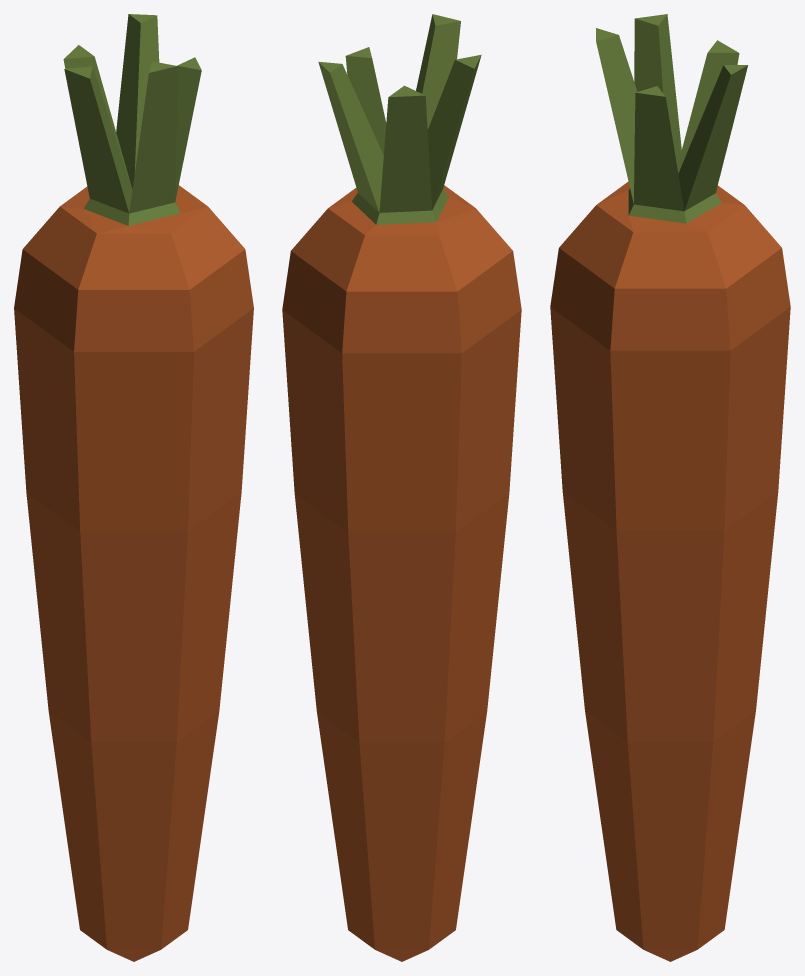
File: SM_Envr_Nature_Farm_Vegetable_Carrot.fbx
The picture shows the model from 3 angles, left to right: view 1: azimuth 30°, elevation 25°; view 2: azimuth 150°, elevation 25°; view 3: azimuth 270°, elevation 25°; orthographic projection.
Parts seen in each view (by area): view 1: SM_Envr_Nature_Farm_Vegetable_Carrot; view 2: SM_Envr_Nature_Farm_Vegetable_Carrot; view 3: SM_Envr_Nature_Farm_Vegetable_Carrot.
Boxes of the visible parts, x1,y1,x2,y2 form: SM_Envr_Nature_Farm_Vegetable_Carrot: (14,14,253,961); SM_Envr_Nature_Farm_Vegetable_Carrot: (282,14,521,961); SM_Envr_Nature_Farm_Vegetable_Carrot: (550,14,790,961).
Bounding box in the file's own units: 4.8 × 23.48 × 5.54.
